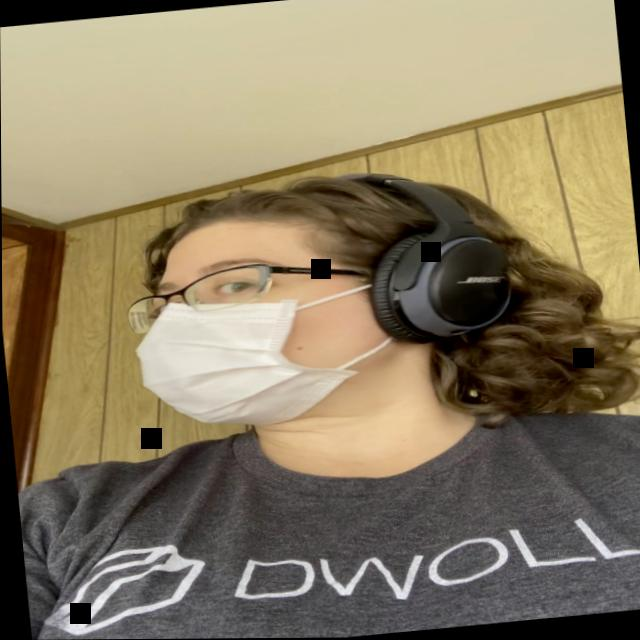Mask: (123, 204, 371, 436)
